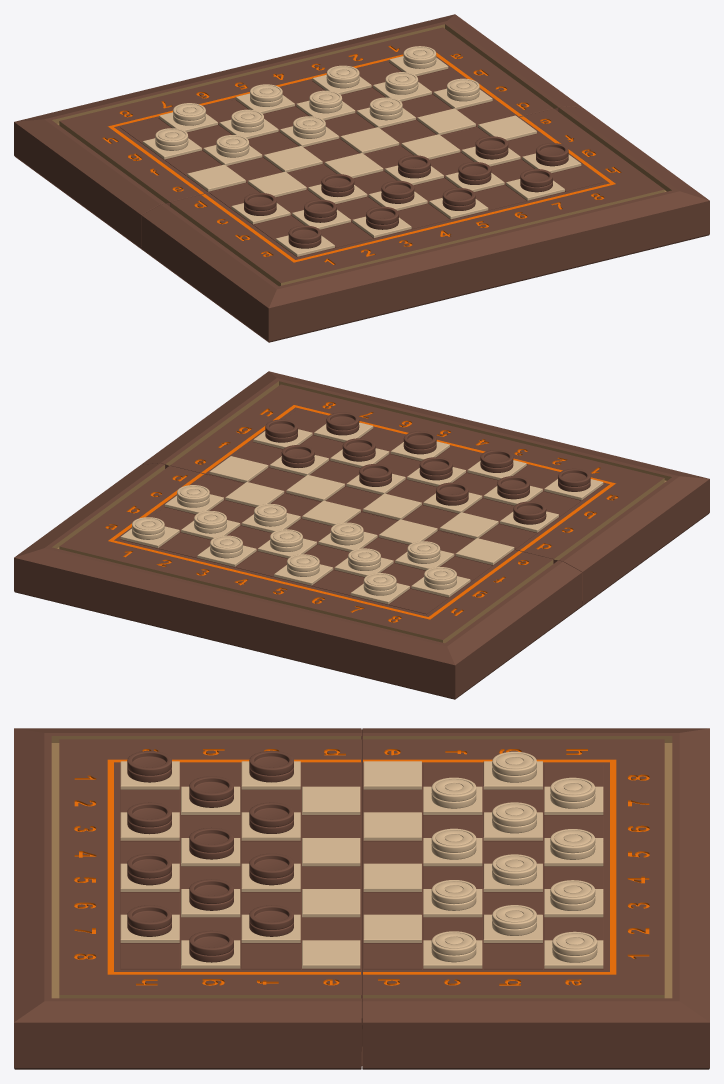
Rendered from classroom_fin_2.fbx.
The picture shows the model from 3 angles, top to bottom: view 1: azimuth 30°, elevation 25°; view 2: azimuth 150°, elevation 25°; view 3: azimuth 270°, elevation 25°; orthographic projection. The views are drawn at different scales.
Parts seen in each view (by area): view 1: Chess_Board_1, Cylinder_16, Cylinder_13, Cylinder_23, Cylinder_19, Cylinder_21, Cylinder_15, Cylinder_22, Cylinder_14, Cylinder_20, Cylinder_18, Cylinder_17 (+13 smaller); view 2: Chess_Board_1, Cylinder_21, Cylinder_23, Cylinder_18, Cylinder_17, Cylinder_12, Cylinder_20, Cylinder_15, Cylinder_14, Cylinder_16, Cylinder_22, Cylinder_13 (+13 smaller); view 3: Chess_Board_1, Cylinder_19, Cylinder_21, Cylinder_18, Cylinder_16, Cylinder_22, Cylinder_17, Cylinder_20, Cylinder_12, Cylinder_23, Cylinder_14, Cylinder_13 (+13 smaller).
Boxes of the visible parts, x1,y1,x2,y2 form: Chess_Board_1: [14, 14, 709, 342]; Cylinder_16: [475, 136, 508, 159]; Cylinder_13: [288, 225, 321, 248]; Cylinder_23: [381, 180, 414, 203]; Cylinder_19: [398, 155, 430, 178]; Cylinder_21: [458, 162, 491, 184]; Cylinder_15: [321, 174, 354, 196]; Cylinder_22: [304, 199, 336, 222]; Cylinder_14: [366, 206, 398, 229]; Cylinder_20: [536, 143, 568, 166]; Cylinder_18: [442, 188, 475, 210]; Cylinder_17: [520, 169, 552, 192]; Chess_Board_1: [14, 371, 709, 699]; Cylinder_21: [342, 438, 375, 461]; Cylinder_23: [419, 457, 452, 480]; Cylinder_18: [403, 431, 436, 454]; Cylinder_17: [326, 412, 359, 435]; Cylinder_12: [513, 501, 546, 524]; Cylinder_20: [265, 419, 297, 442]; Cylinder_15: [436, 482, 468, 505]; Cylinder_14: [480, 450, 513, 472]; Cylinder_16: [281, 445, 314, 467]; Cylinder_22: [497, 476, 529, 499]; Cylinder_13: [558, 468, 590, 491]; Chess_Board_1: [14, 728, 709, 1069]; Cylinder_19: [249, 853, 293, 885]; Cylinder_21: [189, 879, 233, 910]; Cylinder_18: [127, 853, 171, 885]; Cylinder_16: [249, 905, 293, 936]; Cylinder_22: [189, 776, 233, 807]; Cylinder_17: [127, 905, 171, 936]; Cylinder_20: [189, 930, 233, 962]; Cylinder_12: [249, 750, 293, 782]; Cylinder_23: [189, 827, 233, 859]; Cylinder_14: [127, 802, 171, 834]; Cylinder_13: [127, 750, 171, 782].
Bounding box in the file's own units: 38.79 × 4.55 × 38.79.
